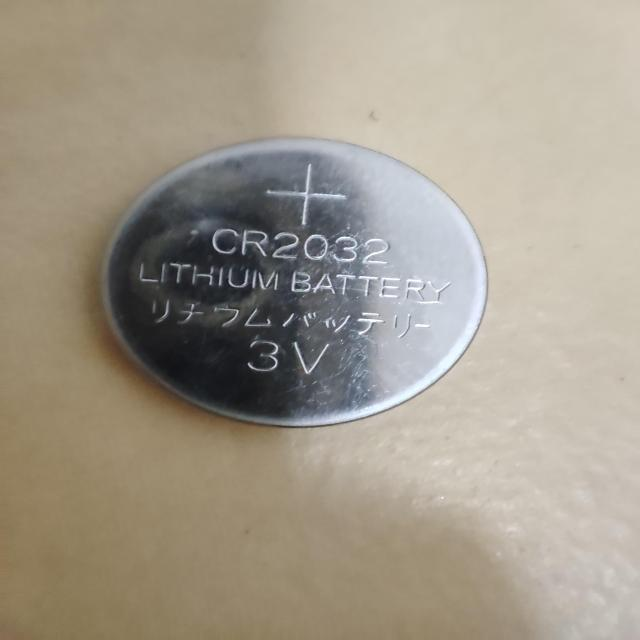COIN: (100, 134, 490, 428)
